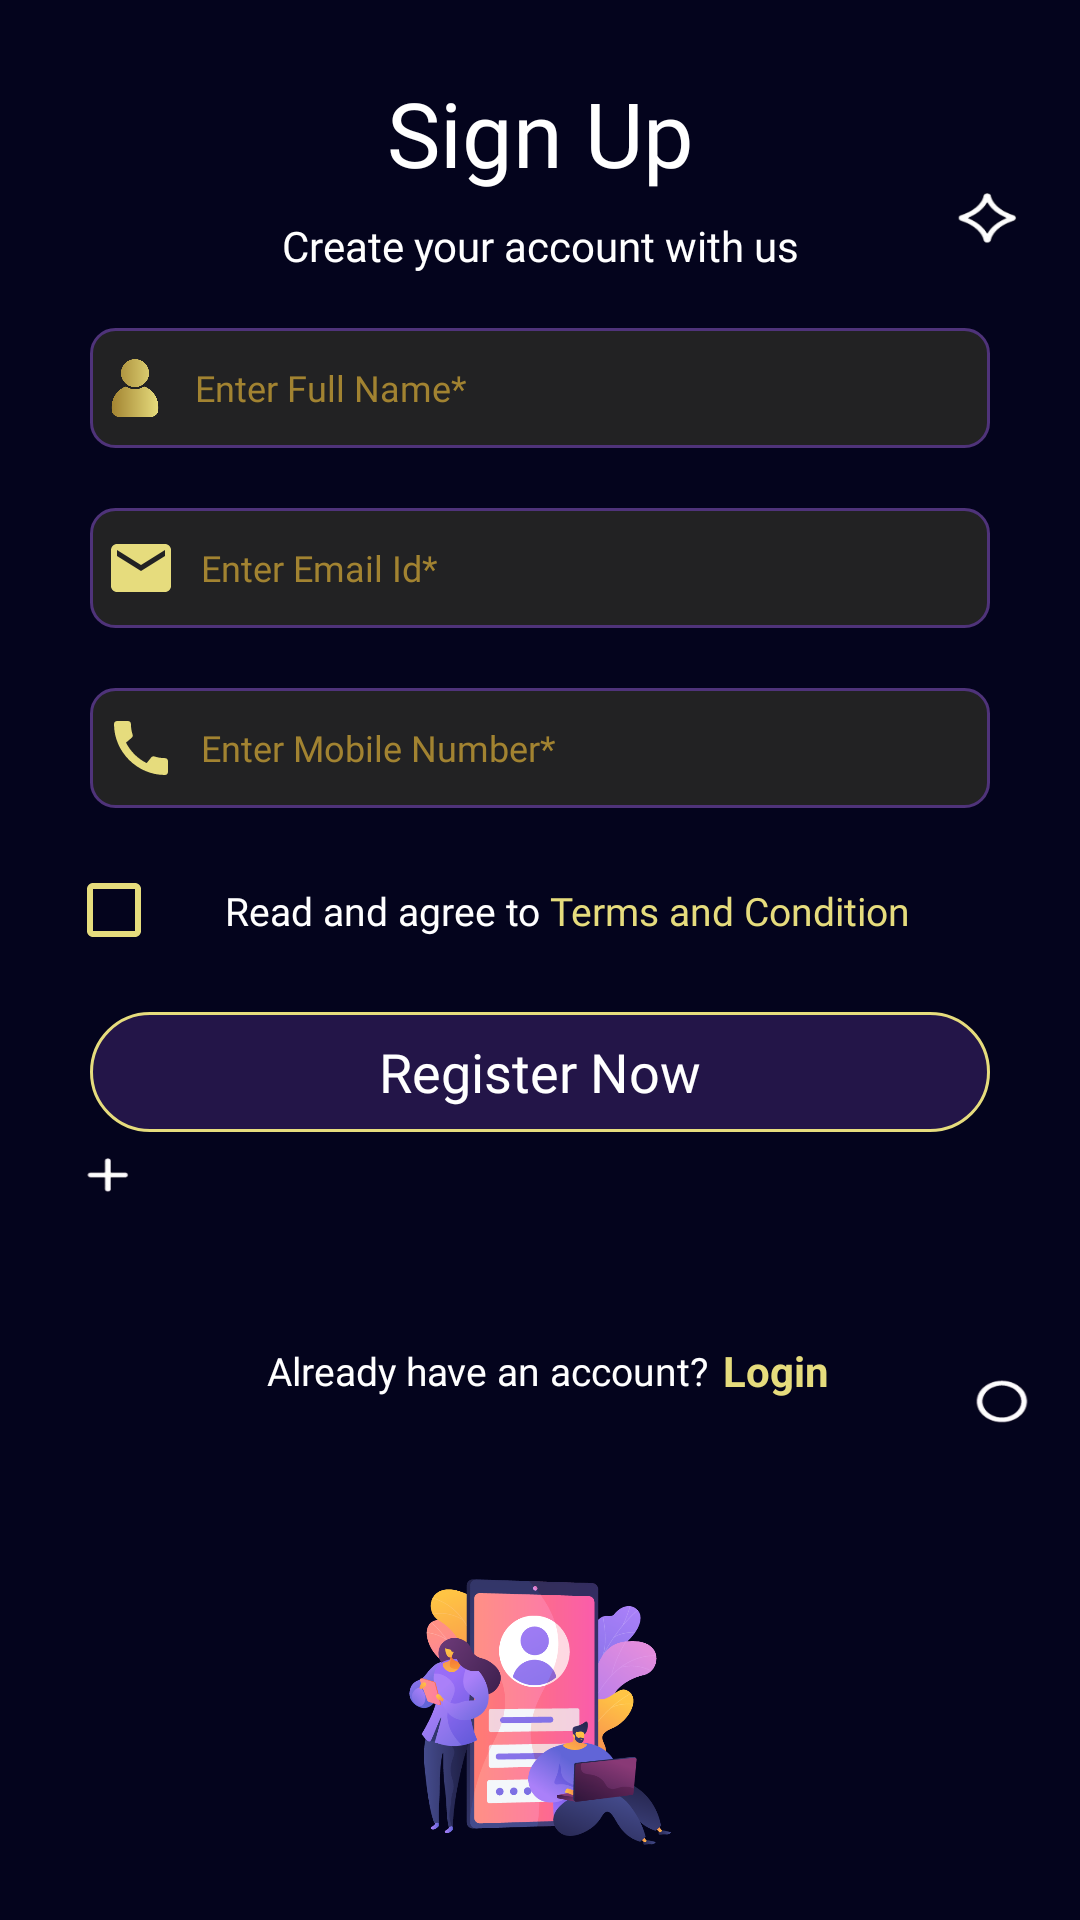

Icon bounding boxes for this 1080×1920 phone screenshot, format [x1, y1, x2, y2]:
call: [114, 721, 168, 775]
user: [112, 359, 158, 417]
